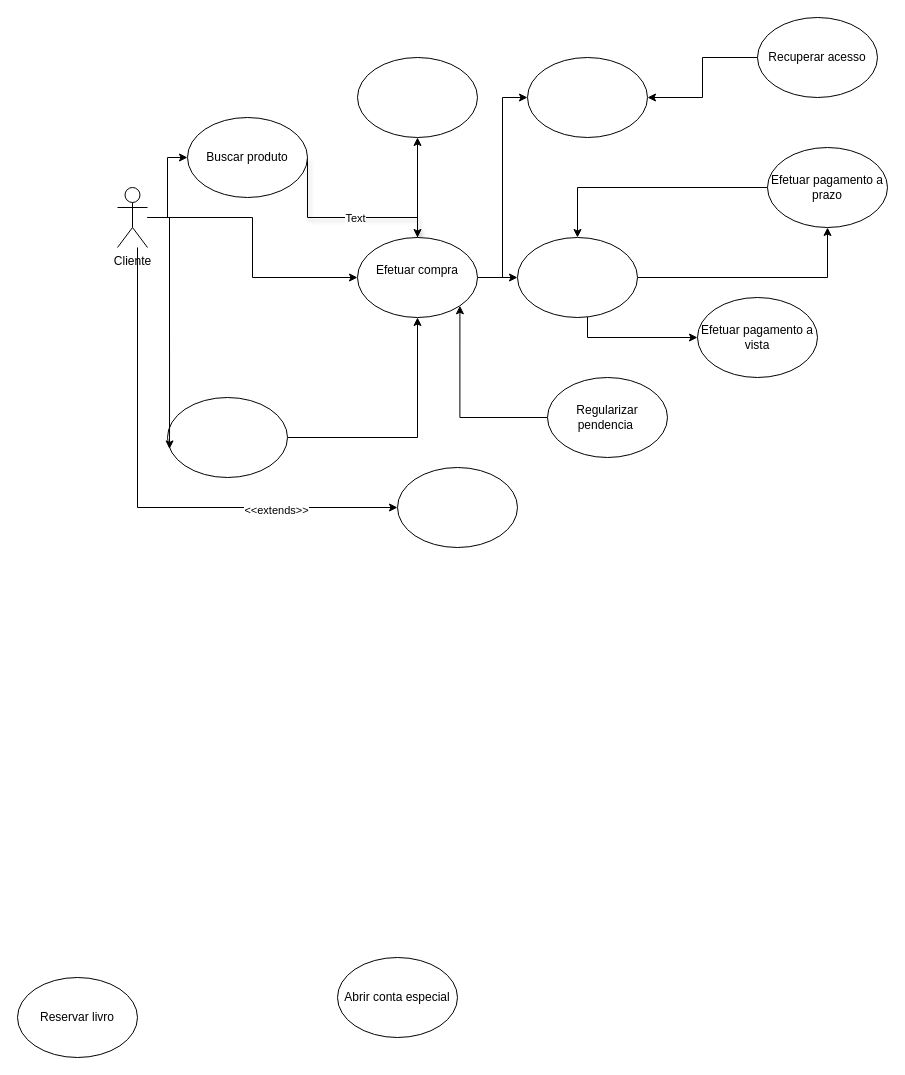
Image size: 905x1075. Some labels were removed from this diagram. Here are the shapes that lost their labels. From the top down, the centre of each, then its label:
At [417,97]: "Emitir comprovante".
At [587,97]: "Efetuar autenticação".
At [577,277]: "Efetuar pagamento".
At [227,437]: "Cadastrar cliente".
At [457,507]: "Alterar cliente".
